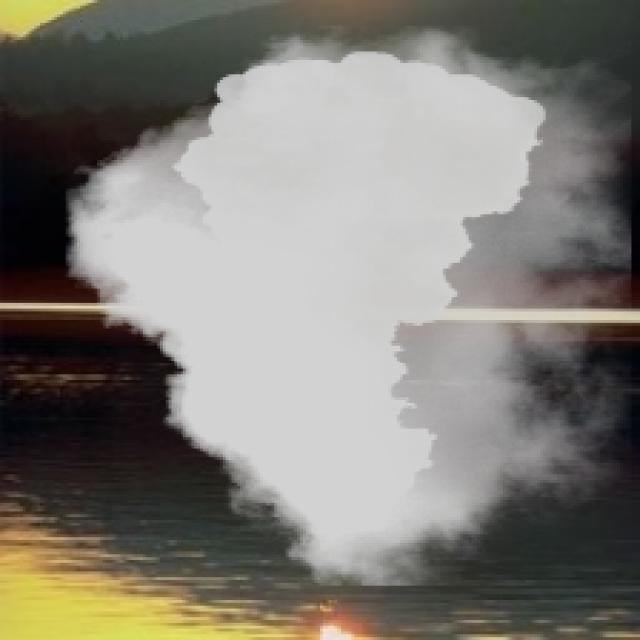smoke: (66, 26, 631, 586)
